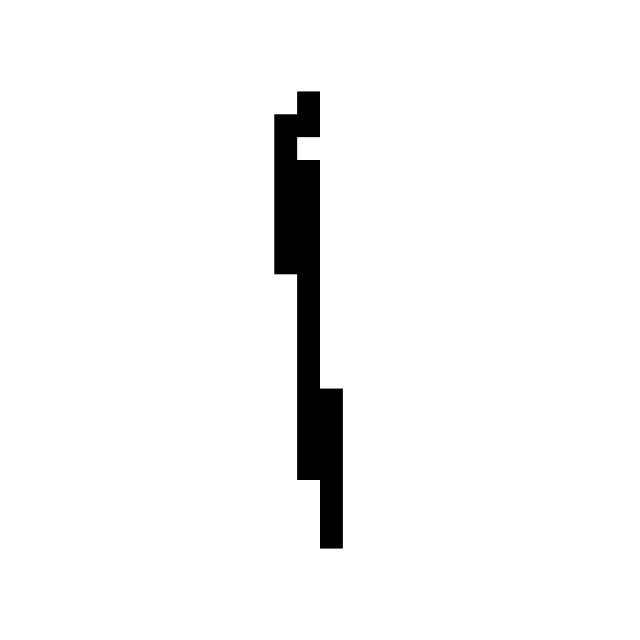1 -one-: (247, 61, 377, 578)
